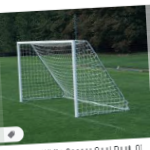goals: (16, 38, 130, 116)
